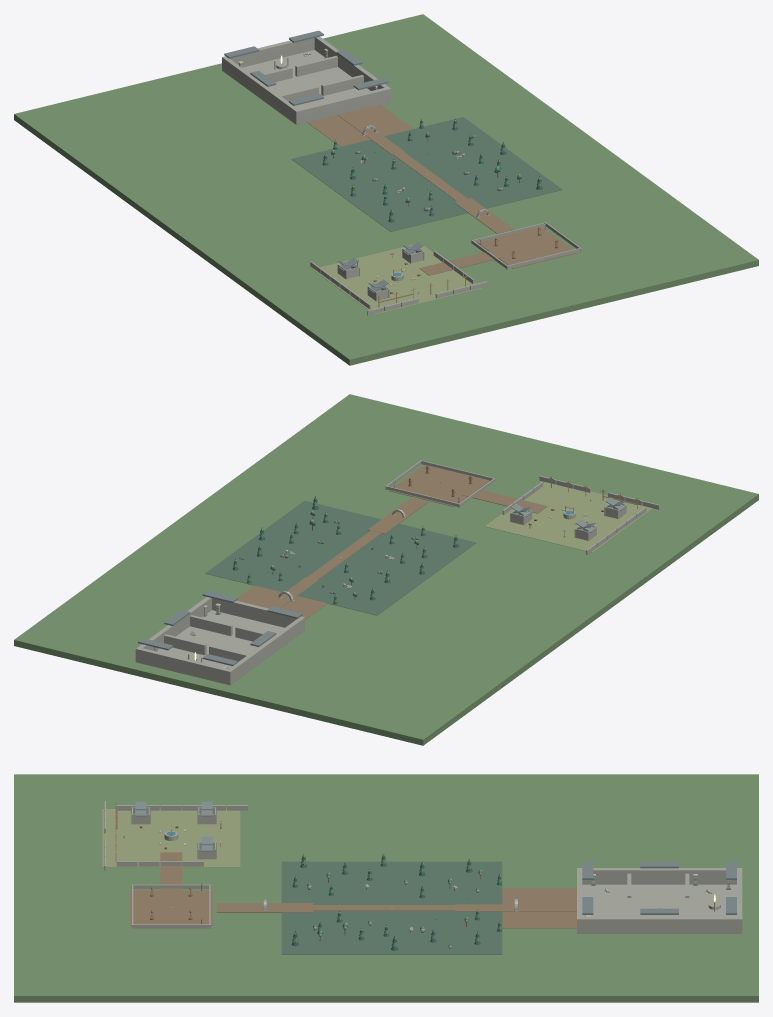
The model's file is SM_StartingReach_Blockout.fbx.
3 views of the same model, one above another, from view 1: azimuth 30°, elevation 25°; view 2: azimuth 150°, elevation 25°; view 3: azimuth 270°, elevation 25° (orthographic). The views are drawn at different scales.
Visible parts, largest first — view 1: Continuous playable footprint, Grauwaldrand • 80 × 80 m, Brunnfeld • 50 × 50 m, Ruin interior • 40 × 60 m, Klingenhof • 30 × 30 m, Ruin approach, Ruin end wall, Ruin outer wall, Ruin end wall.001, Ruin outer wall.001, Road • north gate, Road • Brunnfeld to Klingenhof (+2 smaller); view 2: Continuous playable footprint, Grauwaldrand • 80 × 80 m, Brunnfeld • 50 × 50 m, Ruin interior • 40 × 60 m, Klingenhof • 30 × 30 m, Ruin end wall.001, Ruin outer wall, Ruin approach, Ruin end wall, Ruin outer wall.001, Road • north gate, Forest trail (+1 smaller); view 3: Continuous playable footprint, Grauwaldrand • 80 × 80 m, Brunnfeld • 50 × 50 m, Ruin interior • 40 × 60 m, Ruin outer wall.001, Klingenhof • 30 × 30 m, Ruin approach, Ruin outer wall, Road • north gate, Ruin approach path, Forest trail, Road • Brunnfeld to Klingenhof (+1 smaller).
Boxes of the visible parts, bbox=[...] form: Continuous playable footprint: bbox=[14, 14, 758, 365]; Grauwaldrand • 80 × 80 m: bbox=[291, 117, 562, 231]; Brunnfeld • 50 × 50 m: bbox=[312, 243, 481, 314]; Ruin interior • 40 × 60 m: bbox=[242, 50, 386, 123]; Klingenhof • 30 × 30 m: bbox=[477, 226, 577, 268]; Ruin approach: bbox=[307, 104, 413, 146]; Ruin end wall: bbox=[298, 88, 388, 124]; Ruin outer wall: bbox=[222, 56, 299, 124]; Ruin end wall.001: bbox=[224, 38, 314, 67]; Ruin outer wall.001: bbox=[314, 36, 390, 102]; Road • north gate: bbox=[454, 198, 514, 233]; Road • Brunnfeld to Klingenhof: bbox=[419, 250, 504, 275]; Continuous playable footprint: bbox=[14, 394, 758, 745]; Grauwaldrand • 80 × 80 m: bbox=[205, 500, 476, 615]; Brunnfeld • 50 × 50 m: bbox=[485, 482, 652, 552]; Ruin interior • 40 × 60 m: bbox=[140, 610, 284, 684]; Klingenhof • 30 × 30 m: bbox=[389, 464, 489, 506]; Ruin end wall.001: bbox=[138, 647, 229, 684]; Ruin outer wall: bbox=[226, 616, 304, 685]; Ruin approach: bbox=[237, 585, 327, 619]; Ruin end wall: bbox=[212, 598, 296, 627]; Ruin outer wall.001: bbox=[135, 597, 211, 662]; Road • north gate: bbox=[368, 497, 428, 533]; Forest trail: bbox=[307, 530, 381, 579]; Continuous playable footprint: bbox=[14, 774, 758, 1002]; Grauwaldrand • 80 × 80 m: bbox=[281, 861, 502, 954]; Brunnfeld • 50 × 50 m: bbox=[102, 809, 240, 867]; Ruin interior • 40 × 60 m: bbox=[582, 884, 736, 916]; Ruin outer wall.001: bbox=[577, 917, 742, 933]; Klingenhof • 30 × 30 m: bbox=[130, 890, 212, 925]; Ruin approach: bbox=[502, 888, 576, 928]; Ruin outer wall: bbox=[577, 868, 742, 884]; Road • north gate: bbox=[216, 903, 313, 912]; Ruin approach path: bbox=[455, 904, 576, 911]; Forest trail: bbox=[313, 905, 455, 910]; Road • Brunnfeld to Klingenhof: bbox=[160, 852, 182, 893].
Size of the model in its own units: 190 by 11.33 by 270.
